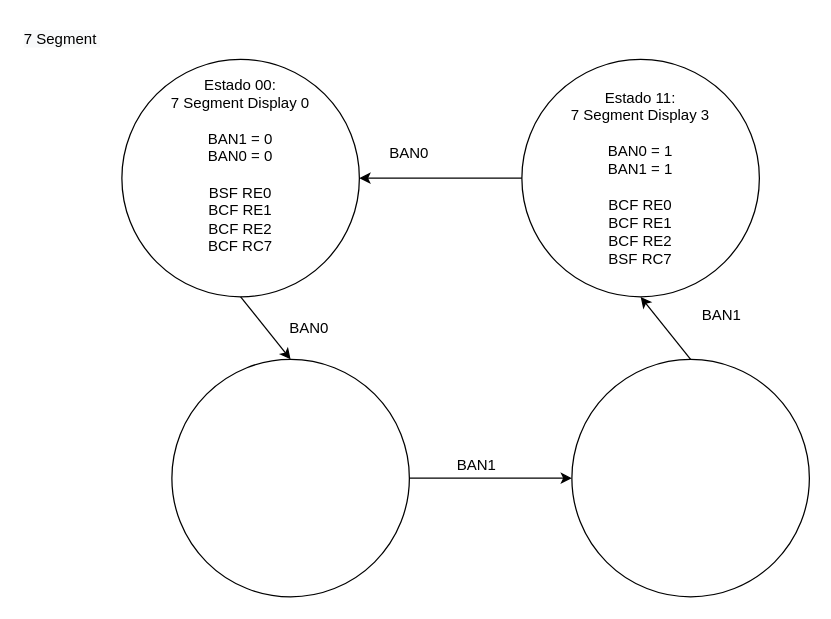
Some shapes in this 831 by 619 pixel diagram are drawn without their labels. Each missing label, with the box of its shape:
Estado 01: 7 Segment Display 1 BAN0 = 1 BAN1 = 0 BCF RE0 BSF RE1 BCF RE2 BCF RC7: (171, 358, 409, 597)
Estado 10: 7 Segment Display 2 BAN0 = 1 BAN1 = 0 BCF RE0 BCF RE1 BSF RE2 BCF RC7: (571, 358, 809, 597)
